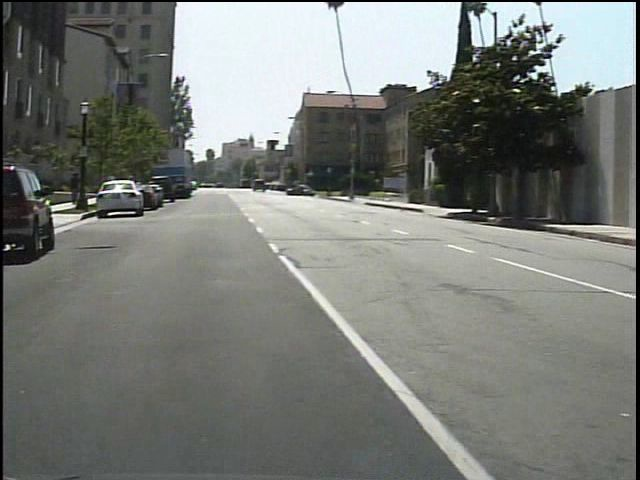person: (61, 169, 75, 206)
